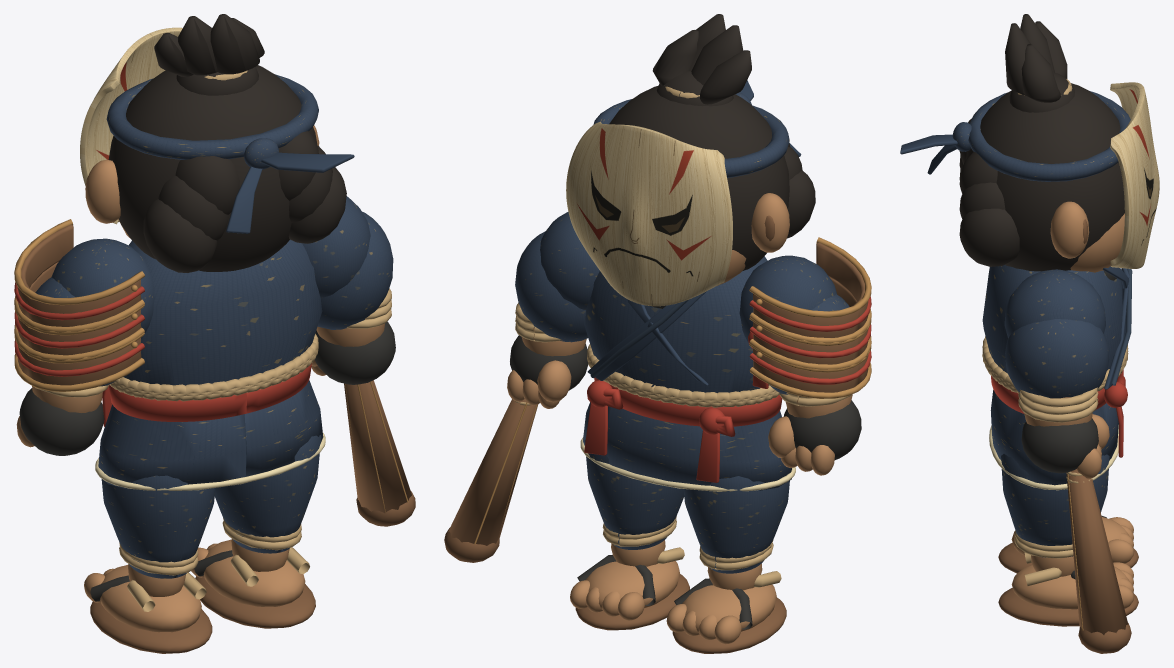
File: masked_raider.glb
3 views of the same model, side by side, from view 1: azimuth 30°, elevation 25°; view 2: azimuth 150°, elevation 25°; view 3: azimuth 270°, elevation 25° (orthographic). The views are drawn at different scales.
Visible parts, largest first — view 1: Jacket rounded ribcage, Full rounded skull, Jacket full curved skirt, 1 short billowing trouser, -1 short billowing trouser, Right hand wooden club shaft, Indigo headband, 1 full padded shoulder, Thin curved wood mask painted face, Broad red sash, -1 rounded short sleeve, -1 full padded shoulder (+43 smaller); view 2: Thin curved wood mask painted face, Jacket rounded ribcage, Full rounded skull, Jacket full curved skirt, 1 short billowing trouser, Right hand wooden club shaft, -1 short billowing trouser, -1 rounded short sleeve, 1 full padded shoulder, -1 full padded shoulder, Left convex shoulder wooden plate 0, Broad red sash (+43 smaller); view 3: Full rounded skull, -1 rounded short sleeve, Thin curved wood mask painted face, Right hand wooden club shaft, -1 full padded shoulder, -1 short billowing trouser, Jacket rounded ribcage, Indigo headband, Jacket full curved skirt, -1 fingerless glove, -1 solid rear hair lock 0, -1 bare foot (+29 smaller).
Part boxes in pixels (x1,y1,x2,y2): Jacket rounded ribcage: [123, 239, 322, 385]; Full rounded skull: [108, 65, 317, 271]; Jacket full curved skirt: [98, 380, 323, 490]; 1 short billowing trouser: [101, 475, 215, 578]; -1 short billowing trouser: [214, 435, 321, 553]; Right hand wooden club shaft: [344, 380, 411, 513]; Indigo headband: [106, 74, 318, 159]; 1 full padded shoulder: [51, 238, 154, 338]; Thin curved wood mask painted face: [80, 27, 182, 224]; Broad red sash: [109, 363, 311, 421]; -1 rounded short sleeve: [317, 211, 393, 329]; -1 full padded shoulder: [302, 196, 370, 298]; Thin curved wood mask painted face: [566, 121, 732, 306]; Jacket rounded ribcage: [584, 256, 769, 392]; Full rounded skull: [609, 85, 789, 270]; Jacket full curved skirt: [583, 402, 791, 490]; 1 short billowing trouser: [683, 476, 789, 573]; Right hand wooden club shaft: [448, 399, 538, 545]; -1 short billowing trouser: [584, 439, 684, 549]; -1 rounded short sleeve: [515, 231, 587, 342]; 1 full padded shoulder: [739, 255, 837, 342]; -1 full padded shoulder: [540, 212, 599, 309]; Left convex shoulder wooden plate 0: [753, 242, 868, 337]; Broad red sash: [594, 377, 782, 426]; Full rounded skull: [965, 83, 1124, 271]; -1 rounded short sleeve: [1005, 319, 1109, 398]; Thin curved wood mask painted face: [1110, 82, 1159, 268]; Right hand wooden club shaft: [1066, 469, 1128, 634]; -1 full padded shoulder: [1004, 269, 1105, 337]; -1 short billowing trouser: [1001, 454, 1109, 557]; Jacket rounded ribcage: [982, 265, 1122, 373]; Indigo headband: [968, 91, 1130, 181]; Jacket full curved skirt: [990, 390, 1118, 485]; -1 fingerless glove: [1021, 418, 1098, 473]; -1 solid rear hair lock 0: [959, 208, 1019, 266]; -1 bare foot: [1011, 565, 1129, 609].
Size of the model in its own units: 3.18 by 4.62 by 1.93.
Materials: 11 (2 with a texture image).
